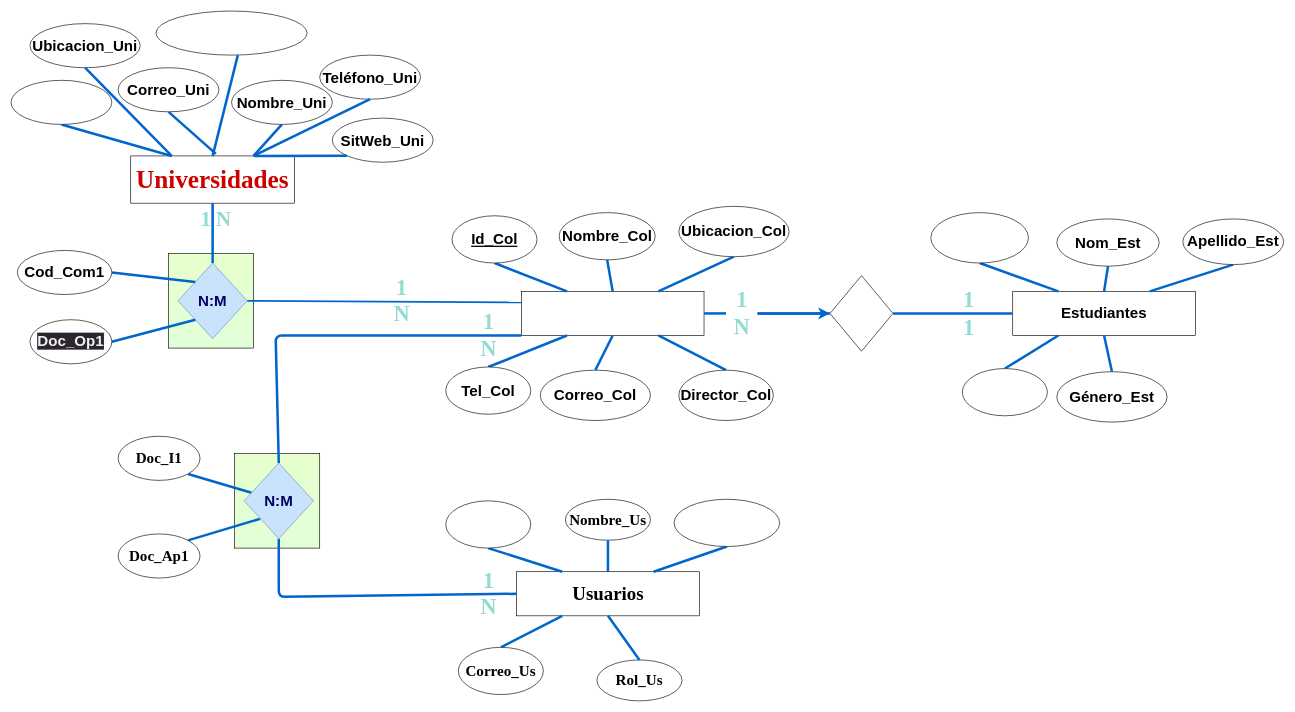
Image size: 1295x712. Some labels were removed from this diagram. Here are the shapes that lost their labels. From the top down, the centre of each, then its label:
At point 231,32: "Departamento_Uni".
At point 61,102: "Id_Uni".
At point 979,237: "Id_Est".
At point 612,313: "Colegios".
At point 861,313: "N:1".
At point 1004,392: "Edad_Est".
At point 488,524: "Id_Us".
At point 726,523: "Contraseña_Us".
